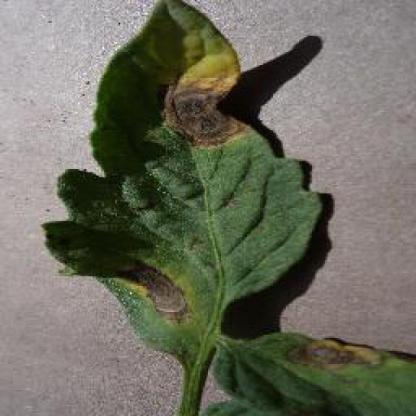Tomato_Blight: (40, 0, 416, 416)
